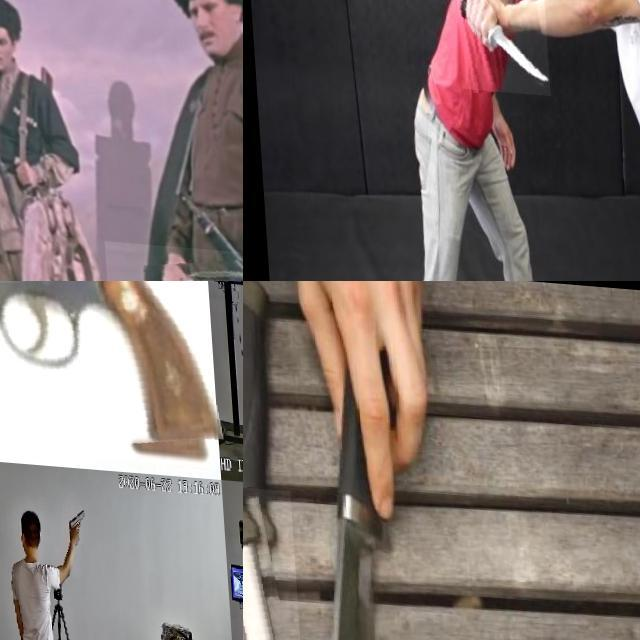-: (291, 410, 453, 640), (243, 483, 304, 640), (453, 0, 546, 91)
gun-knife-thesis - v11 Yolov5 augmented: (0, 281, 212, 463), (60, 504, 81, 540)
